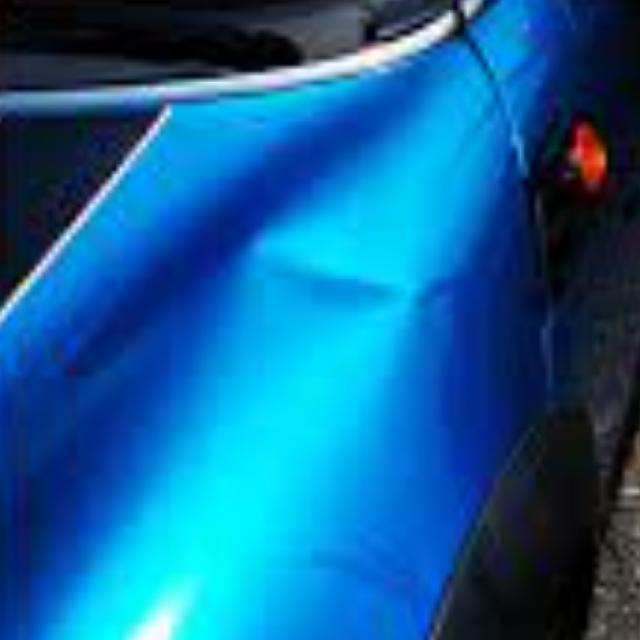dents: (255, 238, 507, 324)
